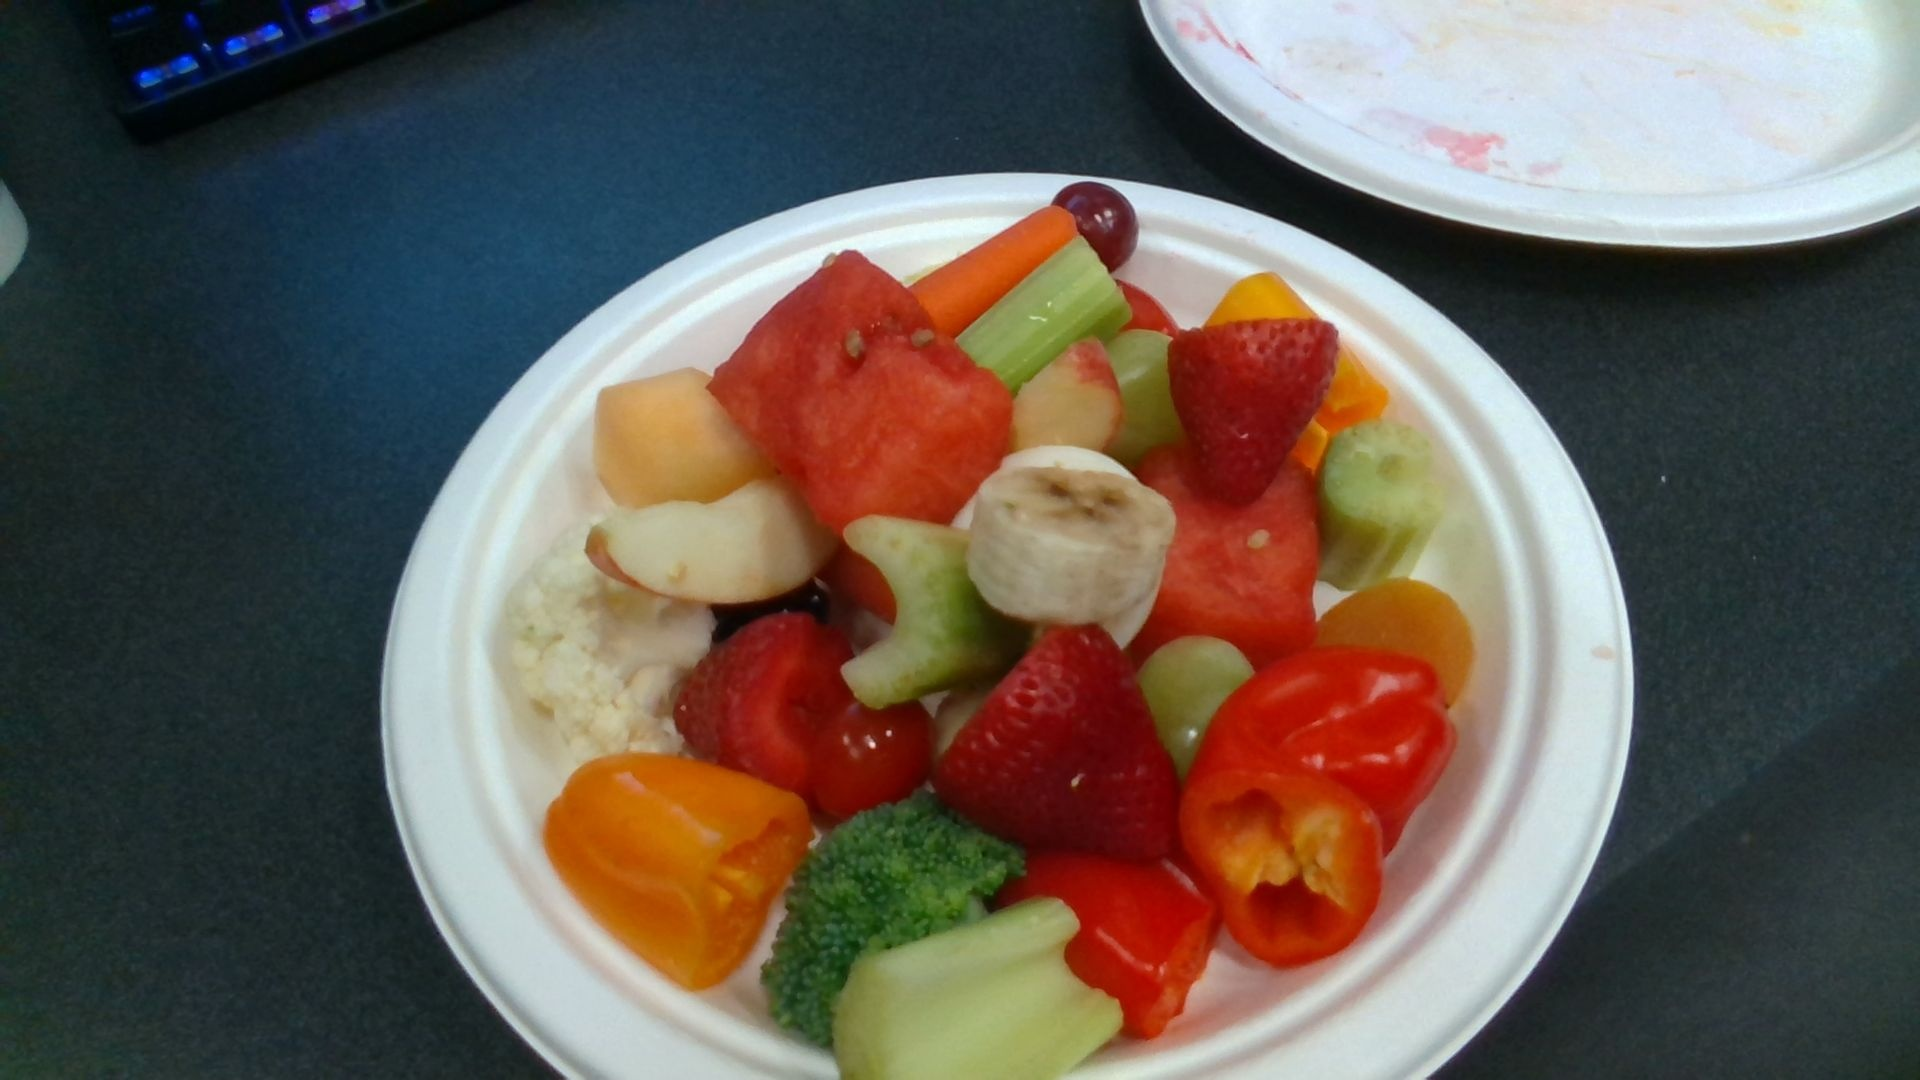apple: (585, 483, 835, 601), (1005, 340, 1125, 455)
apricot: (1320, 582, 1474, 702)
banana: (969, 465, 1172, 618)
bell_pepper: (1180, 651, 1455, 961), (549, 756, 810, 988), (1000, 853, 1222, 1040)
broccoli: (765, 796, 1025, 1035)
cantalope: (595, 371, 757, 501)
carrot: (909, 208, 1079, 345)
cauliflower: (502, 526, 715, 748)
celery: (833, 899, 1122, 1080), (843, 516, 1022, 708), (957, 237, 1130, 381), (1320, 421, 1440, 591)
cherry_tomato: (810, 696, 934, 816)
melon: (709, 255, 1010, 533), (1145, 450, 1319, 653)
strawberry: (939, 621, 1179, 861), (1167, 318, 1338, 501), (679, 616, 851, 793)
